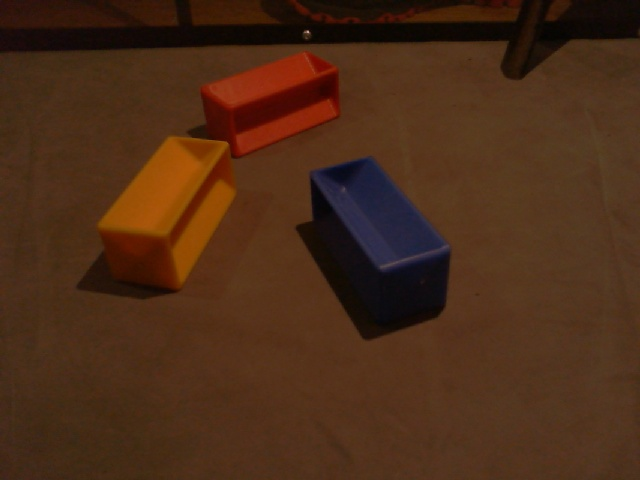BlueSample: (305, 153, 453, 331)
RedSample: (199, 50, 344, 157)
YellowSample: (94, 132, 241, 294)
